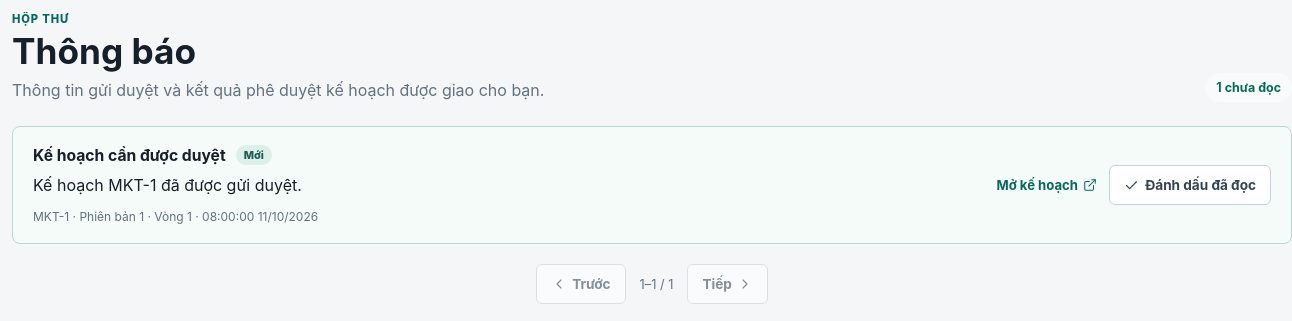
Scenario: shows the recipient inbox and marks a notice read
Check: the text "Kế hoạch MKT-1 đã được gửi duyệt." is shown, box 33,176 -> 302,196
Check: the text "1 chưa đọc" is shown, box 1205,74 -> 1291,102
Click the button "Đánh dấu đã đọc". click: (1190, 186)
box: 1109,166 -> 1271,206
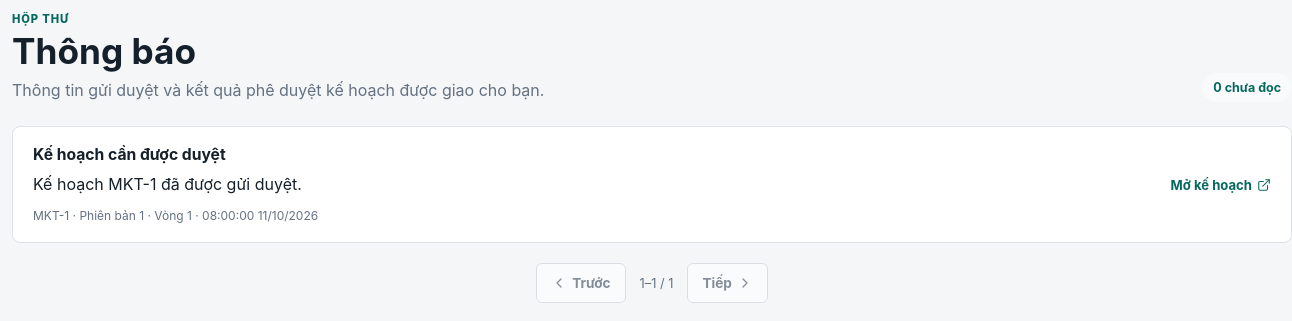
Check: the text "0 chưa đọc" is shown, box 1202,74 -> 1291,102
Check: the button "Đánh dấu đã đọc" is gone
